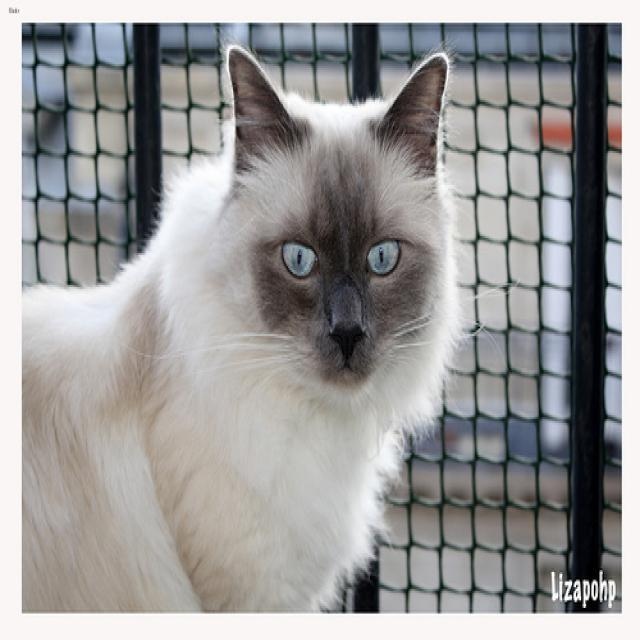Birman: (216, 44, 464, 451)
